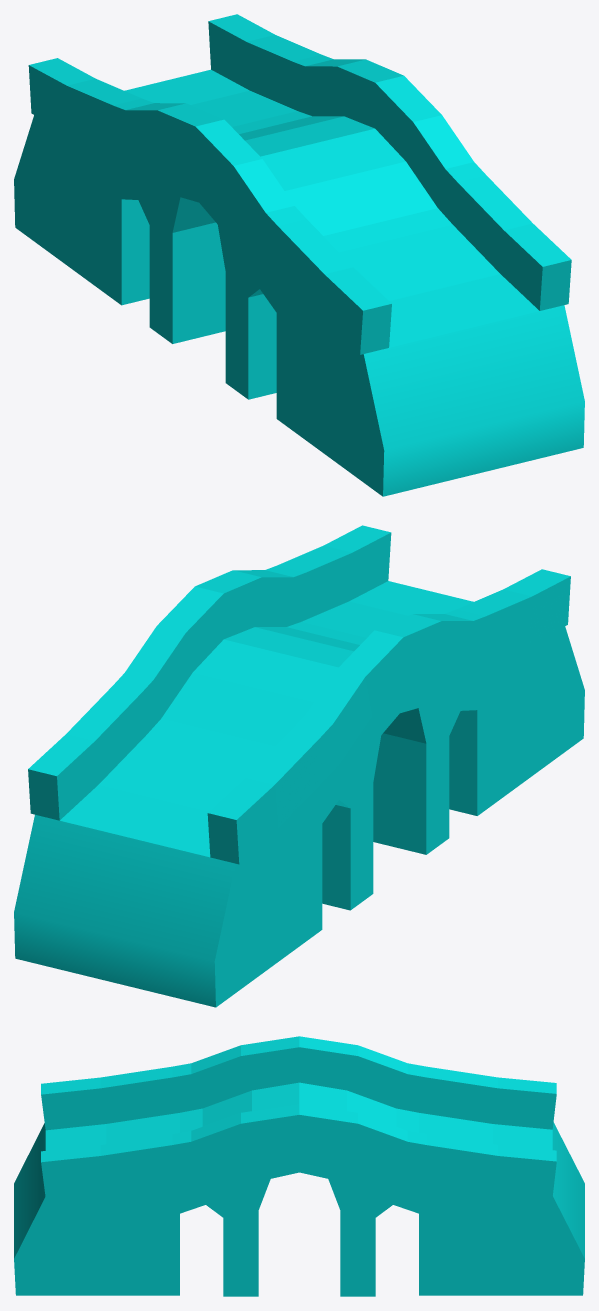
File: SM_Bld_Bridge_01_Collision.fbx
The picture shows the model from 3 angles, top to bottom: view 1: azimuth 30°, elevation 25°; view 2: azimuth 150°, elevation 25°; view 3: azimuth 270°, elevation 25°; orthographic projection. The views are drawn at different scales.
Parts seen in each view (by area): view 1: SM_Bld_Bridge_01_Collision; view 2: SM_Bld_Bridge_01_Collision; view 3: SM_Bld_Bridge_01_Collision.
Part boxes in pixels (<box>): SM_Bld_Bridge_01_Collision: <box>14,14,584,496</box>; SM_Bld_Bridge_01_Collision: <box>14,525,584,1007</box>; SM_Bld_Bridge_01_Collision: <box>14,1036,584,1296</box>.
Size of the model in its own units: 432 by 471 by 1329.
